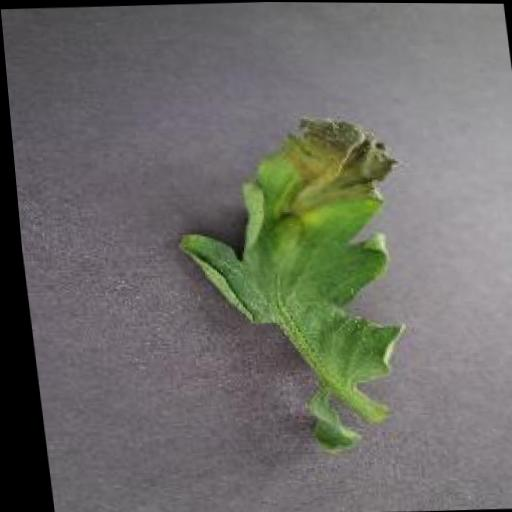Late Blight: (162, 109, 420, 393)
